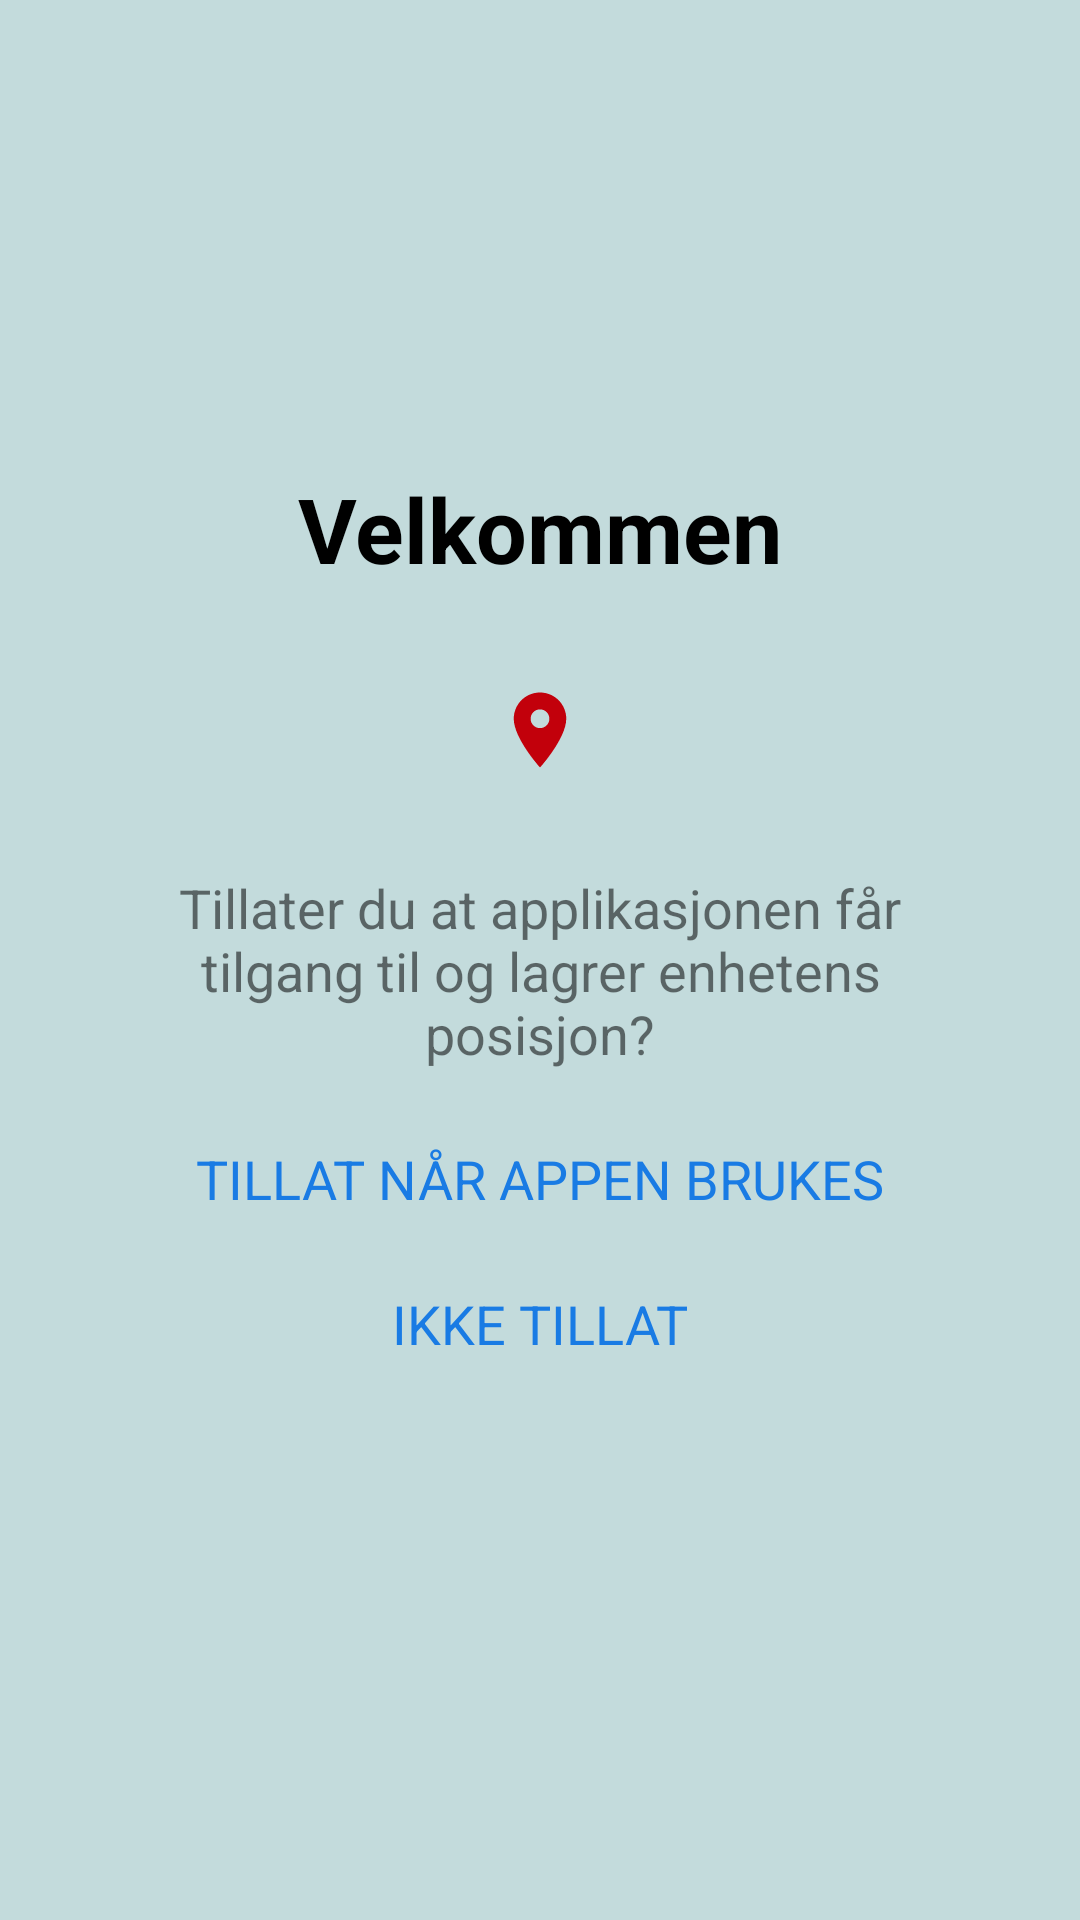

Where icons sit on this 1080px×1920px app screen, as (x1, y1, x2, y2):
Position Icon: (513, 692, 567, 767)
